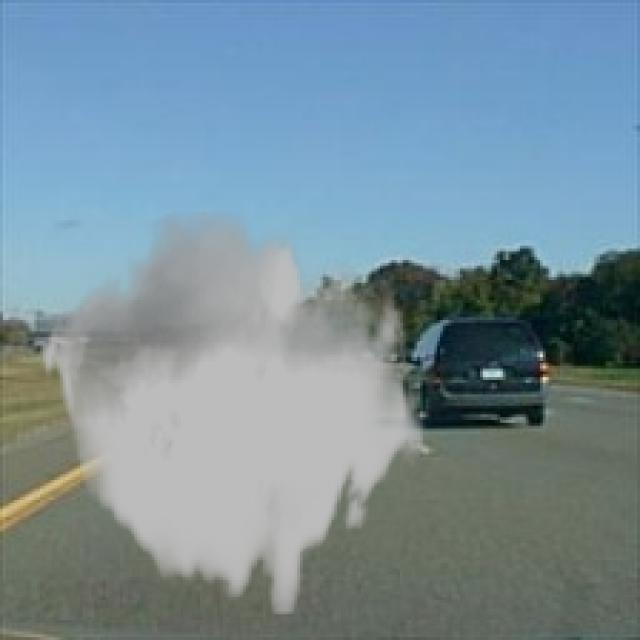Smoke: (40, 212, 426, 614)
